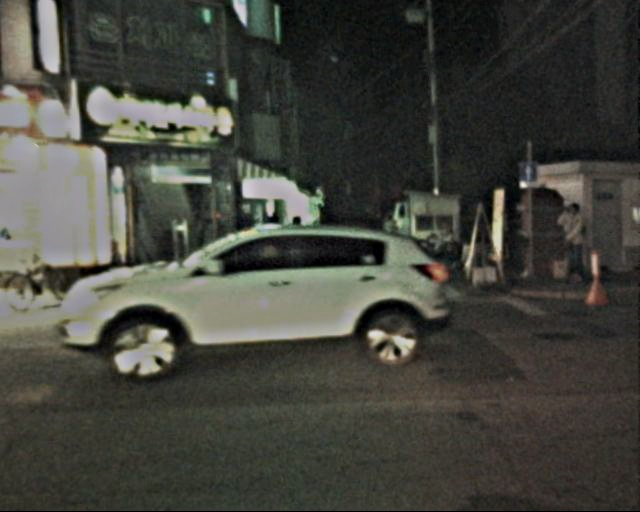person: (553, 200, 589, 289)
